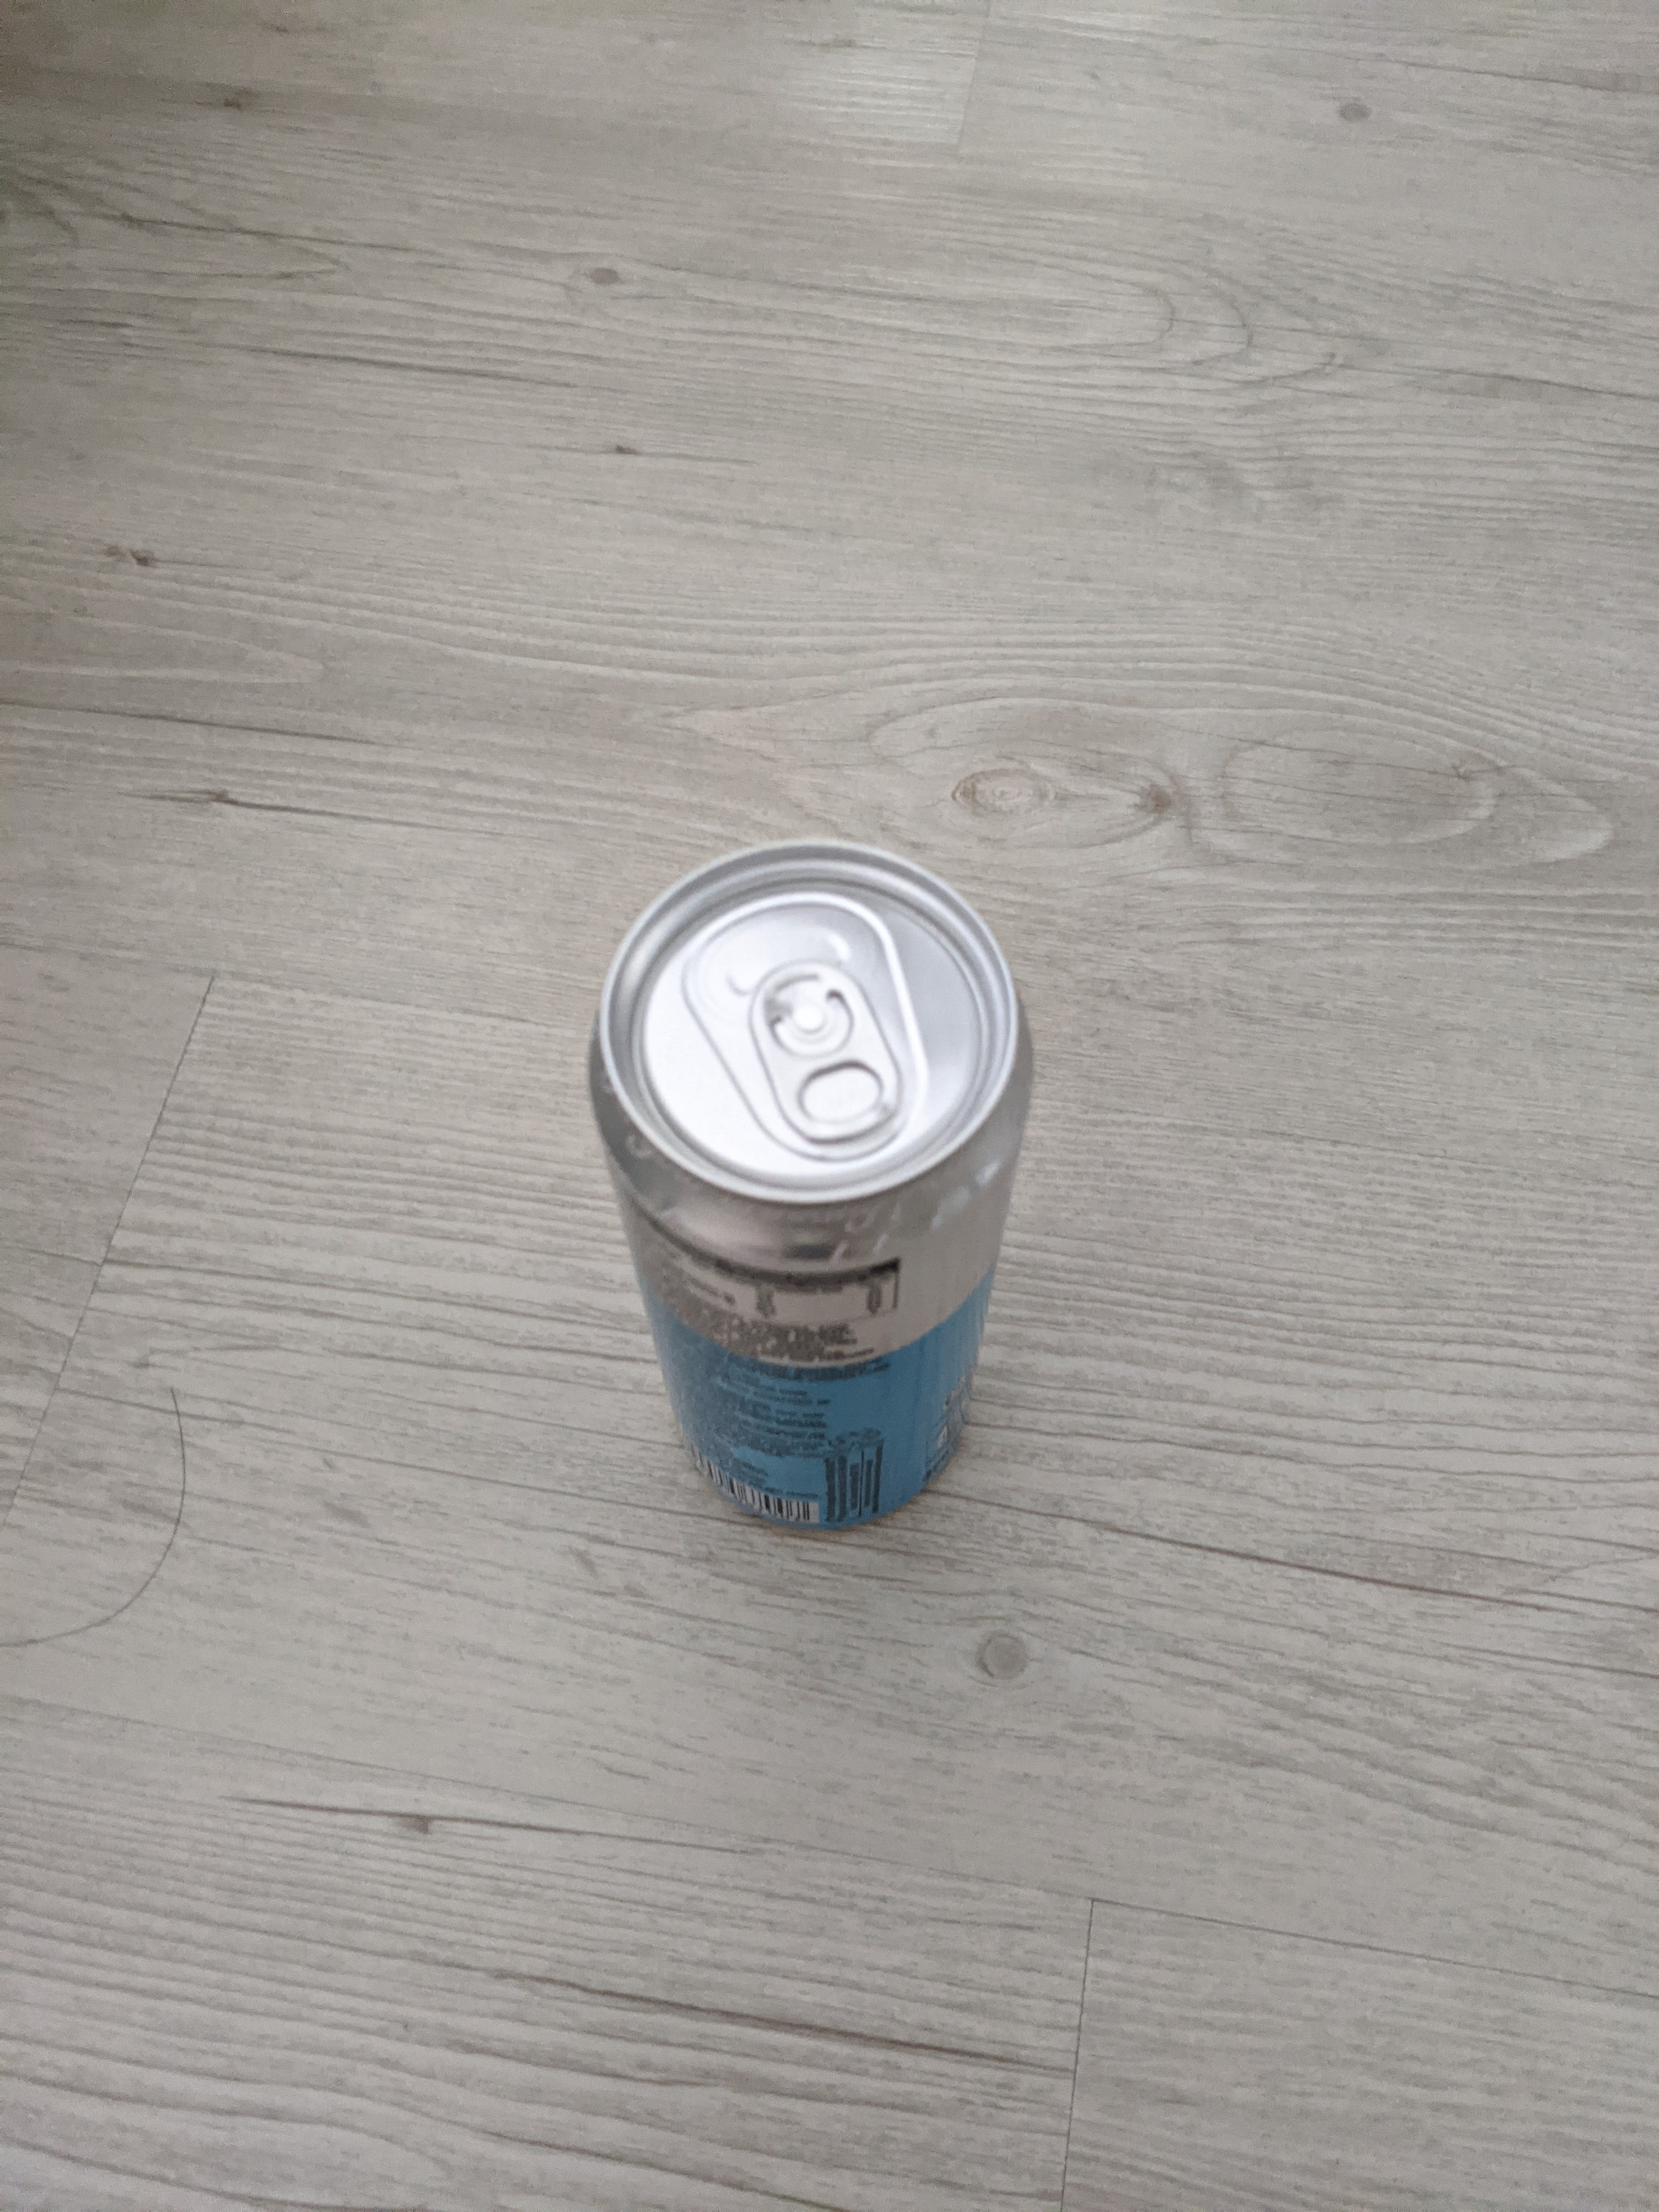schweppes drink can bitter lemon: (577, 829, 1049, 1559)
